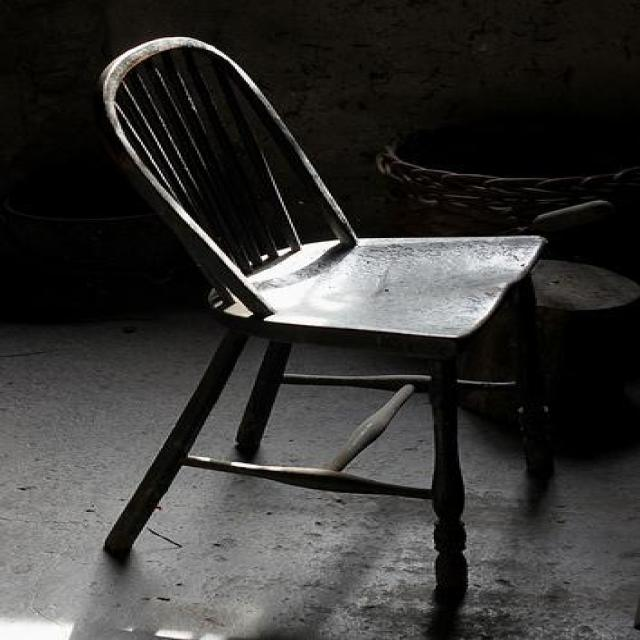chair: (96, 34, 557, 596)
